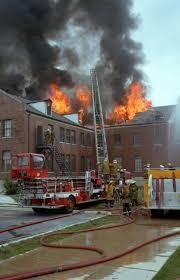fire: (106, 80, 151, 122), (49, 81, 90, 119)
